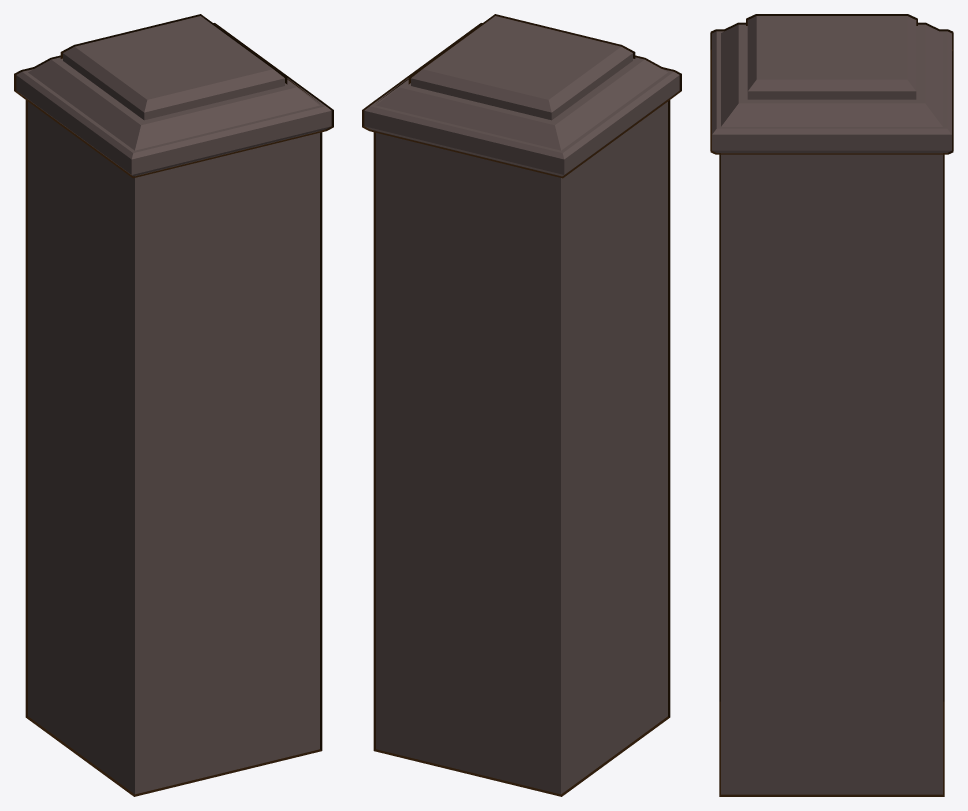
Rendered from Wall_End_v004(Outlined).fbx.
3 renders of one model, left to right at view 1: azimuth 30°, elevation 25°; view 2: azimuth 150°, elevation 25°; view 3: azimuth 270°, elevation 25°, orthographic. The views are drawn at different scales.
Parts seen in each view (by area): view 1: Cube; view 2: Cube; view 3: Cube.
Boxes of the visible parts, x1,y1,x2,y2 form: Cube: (14,14,333,796); Cube: (362,14,681,796); Cube: (710,14,953,796).
Size of the model in its own units: 274 by 874 by 274.
